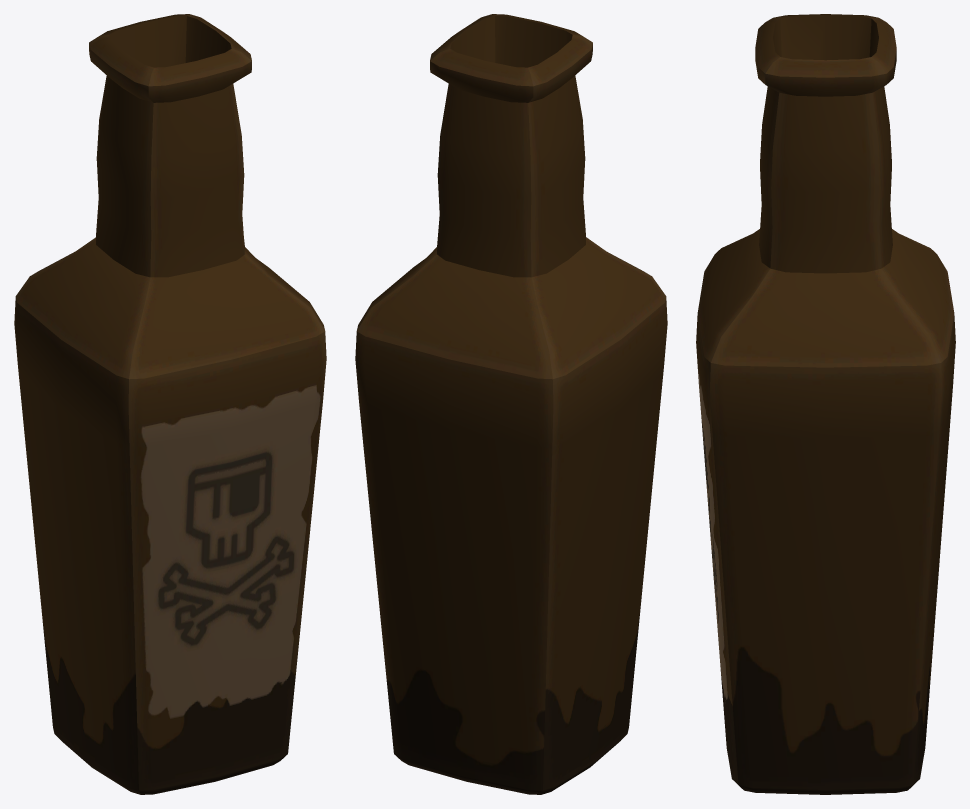
File: bottle.glb
The picture shows the model from 3 angles, left to right: view 1: azimuth 30°, elevation 25°; view 2: azimuth 150°, elevation 25°; view 3: azimuth 270°, elevation 25°; orthographic projection.
Parts seen in each view (by area): view 1: Quest_Pirate1_Bottle; view 2: Quest_Pirate1_Bottle; view 3: Quest_Pirate1_Bottle.
Part boxes in pixels (bbox=[...]): Quest_Pirate1_Bottle: bbox=[14, 14, 326, 794]; Quest_Pirate1_Bottle: bbox=[355, 14, 667, 794]; Quest_Pirate1_Bottle: bbox=[696, 14, 955, 794].
Bounding box in the file's own units: 0.2203 × 0.6719 × 0.2203.
1 material, 1 textured.
